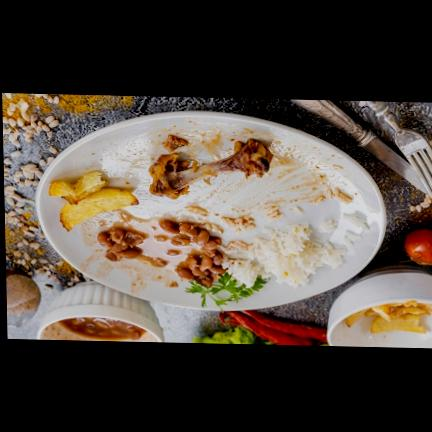beans: (145, 220, 227, 287), (59, 318, 145, 341), (98, 228, 150, 262)
chicken: (149, 139, 273, 199)
potato: (49, 171, 138, 231), (345, 300, 432, 334)
rice: (222, 224, 346, 288)
